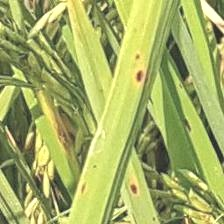Bacterial_Leaf_Blight: (131, 68, 151, 84), (126, 179, 140, 198), (74, 181, 87, 197), (134, 50, 145, 59)
